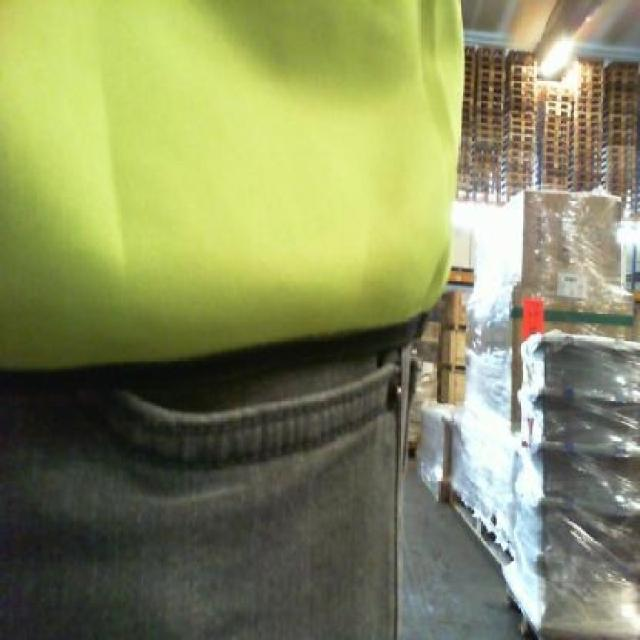pallets: (417, 46, 637, 637), (502, 329, 637, 637)
